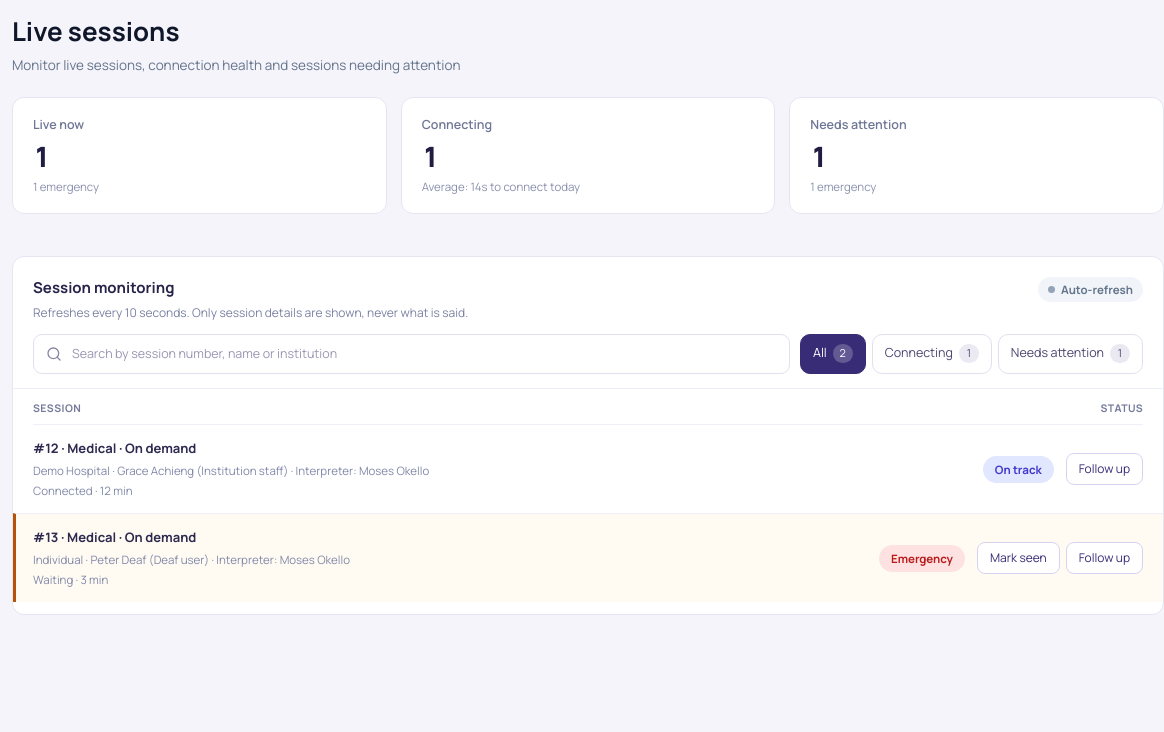
Scenario: SessionsPage (V2-047 live monitor) › searches by session number or name
This screenshot has width=1164, height=732.
Type "peter" into the search field named "Search live sessions" at (424, 354), box [72, 334, 777, 372]
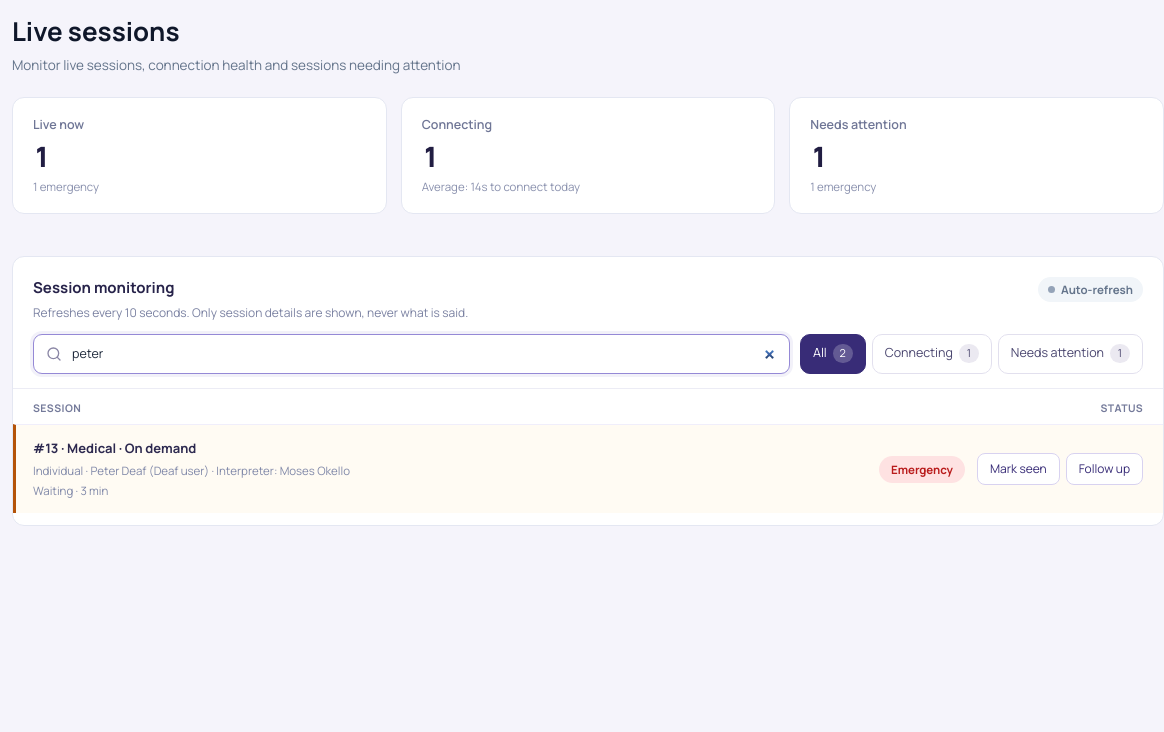
expect the element with test id "live-session" shows "#13": met, box [13, 424, 1163, 513]
expect the number of elements with test id "live-session" is 1: met, box [13, 424, 1163, 513]
Replace the text in the search field named "Search live sessions" with "#12" at (424, 354), box [72, 334, 777, 372]
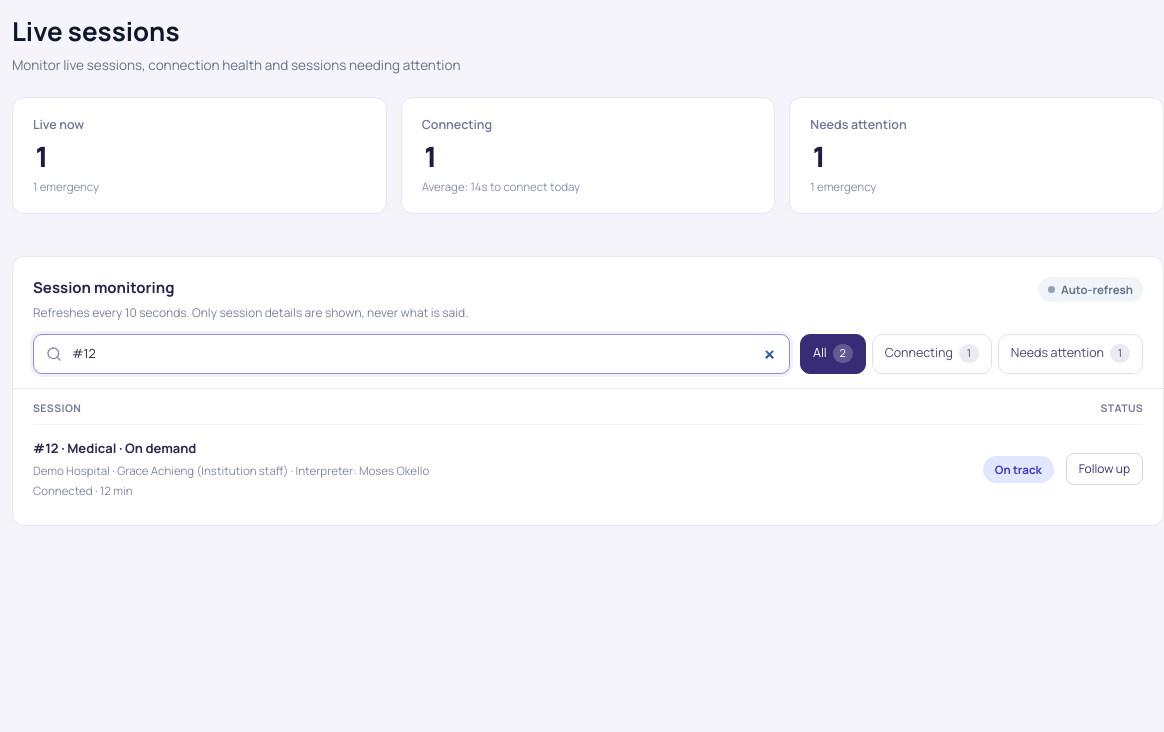
expect the element with test id "live-session" shows "#12": met, box [33, 424, 1143, 513]
Replace the text in the search field named "Search live sessions" with "nobody" at (424, 354), box [72, 334, 777, 372]
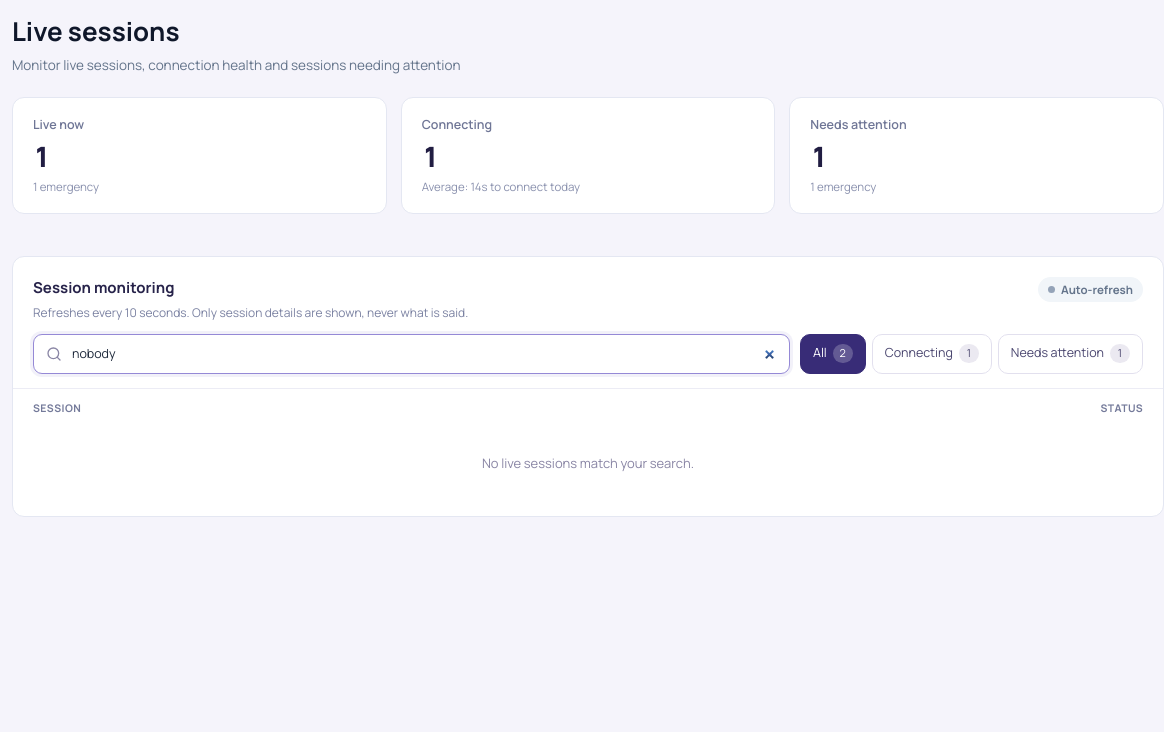
expect the text "No live sessions match your search." is shown: met, box [482, 454, 694, 472]
